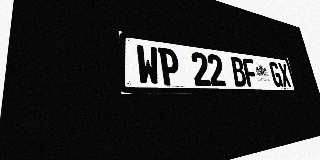2: (190, 51, 211, 86), (206, 53, 226, 86)
B: (230, 56, 247, 87)
F: (242, 58, 259, 87)
G: (268, 61, 283, 87)
P: (158, 47, 181, 86)
W: (135, 44, 161, 85)
X: (277, 62, 292, 87)
